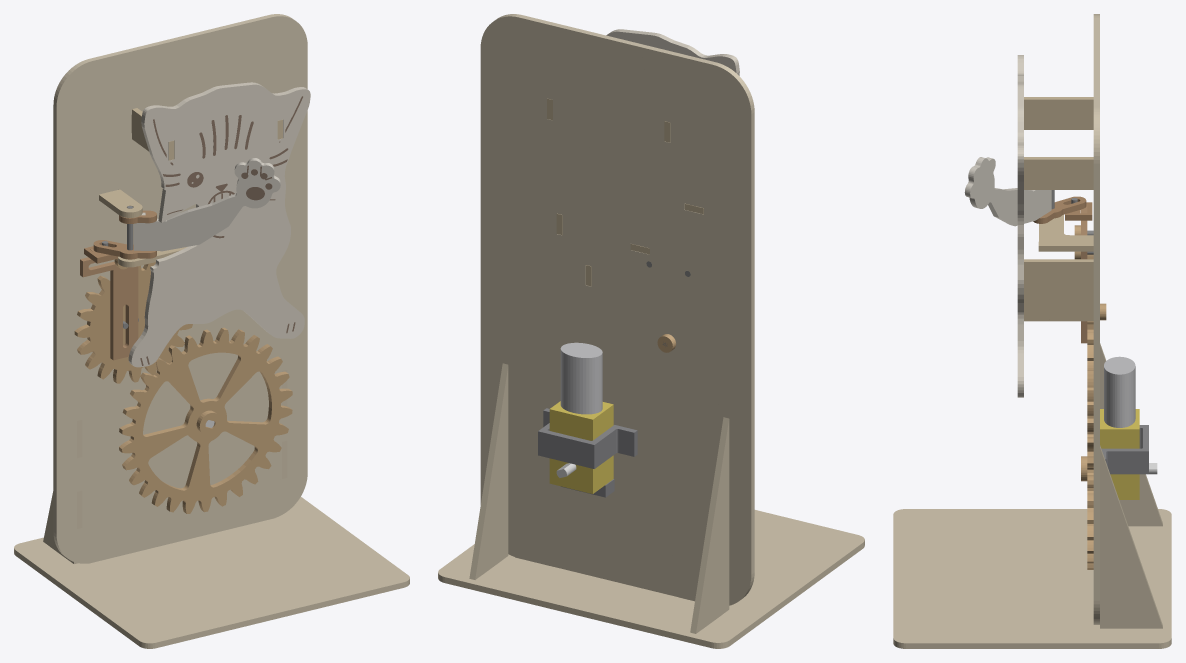
The model's file is scuba_kitten_motor_assembled.glb.
The picture shows the model from 3 angles, left to right: view 1: azimuth 30°, elevation 25°; view 2: azimuth 150°, elevation 25°; view 3: azimuth 270°, elevation 25°; orthographic projection. The views are drawn at different scales.
Visible parts, largest first — view 1: backboard, base, body, gearA, forearm, gearB, shuttle, body_engraving, brace0, ubracket, tiller, standoff0; view 2: backboard, base, brace0, brace1, motor_gearbox, motor_strap, motor_can, body; view 3: base, brace1, backboard, forearm, body, standoff2, standoff0, standoff1, motor_can, standoff3, motor_gearbox, gearA (+4 smaller).
Boxes of the visible parts, x1,y1,x2,y2 form: backboard: (53,14,307,563); base: (14,497,409,648); body: (128,82,310,367); gearA: (119,327,292,513); forearm: (134,158,280,251); gearB: (74,262,192,383); shuttle: (80,248,138,360); body_engraving: (140,96,302,365); brace0: (43,420,82,563); ubracket: (99,189,142,217); tiller: (93,240,156,259); standoff0: (131,108,174,160); backboard: (480,14,754,605); base: (438,510,864,648); brace0: (690,417,729,633); brace1: (469,363,508,579); motor_gearbox: (549,401,613,493); motor_strap: (538,408,637,468); motor_can: (560,342,602,414); body: (606,29,739,75); base: (893,509,1171,648); brace1: (1100,445,1162,628); backboard: (1093,14,1099,624); forearm: (964,157,1051,226); body: (1017,55,1023,397); standoff2: (1024,259,1093,292); standoff0: (1024,97,1093,129); standoff1: (1024,157,1093,189); motor_can: (1104,356,1135,427); standoff3: (1024,292,1093,321); motor_gearbox: (1100,409,1139,499); gearA: (1081,370,1093,569).
Bounding box in the file's own units: 151 × 272 × 132.
